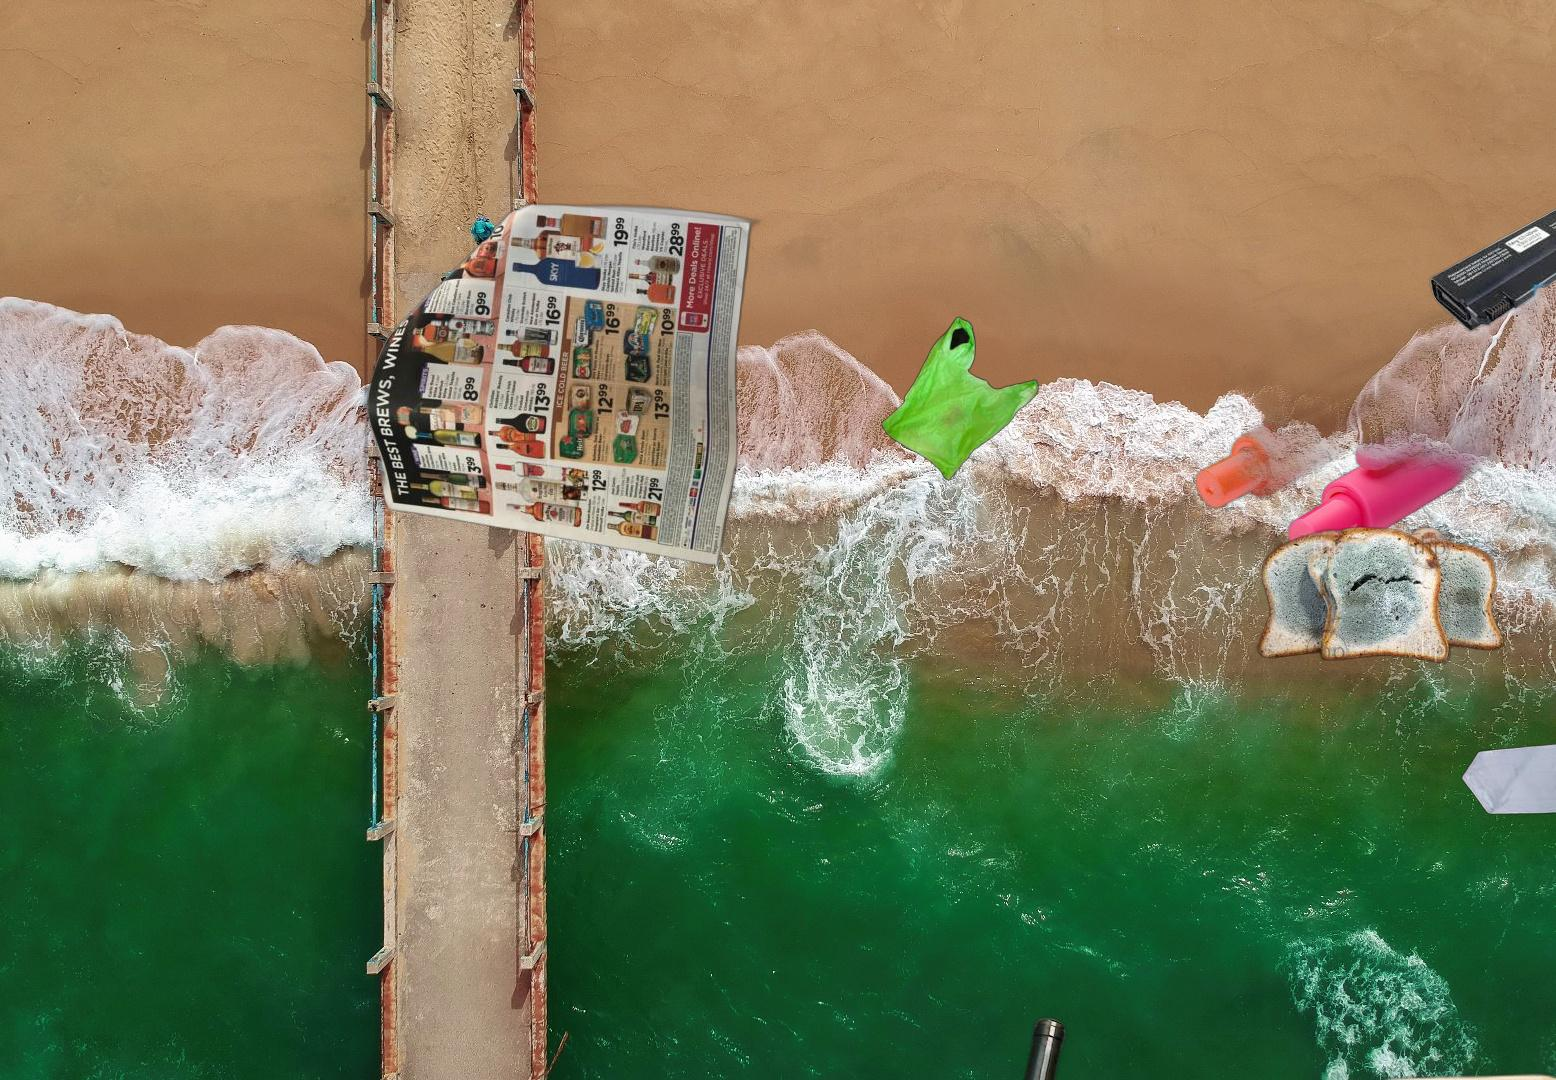battery: (1427, 151, 1556, 339)
biological: (1254, 524, 1509, 670)
glass: (928, 1011, 1074, 1080)
paper: (367, 200, 763, 569)
penholder: (1141, 279, 1541, 629)
plastic-bag: (879, 313, 1042, 481), (1459, 714, 1556, 817)
trashbox-cardboard: (1161, 1068, 1556, 1080)
